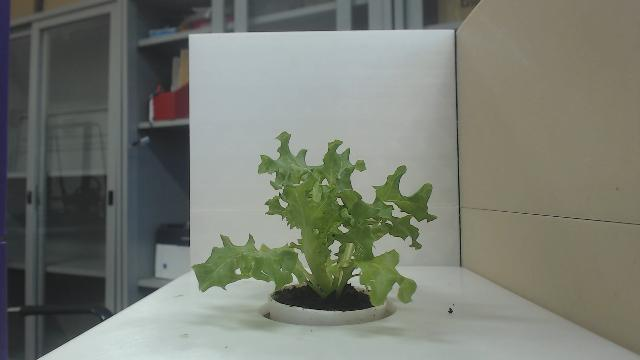Vegetative Stage: (191, 130, 439, 308)
